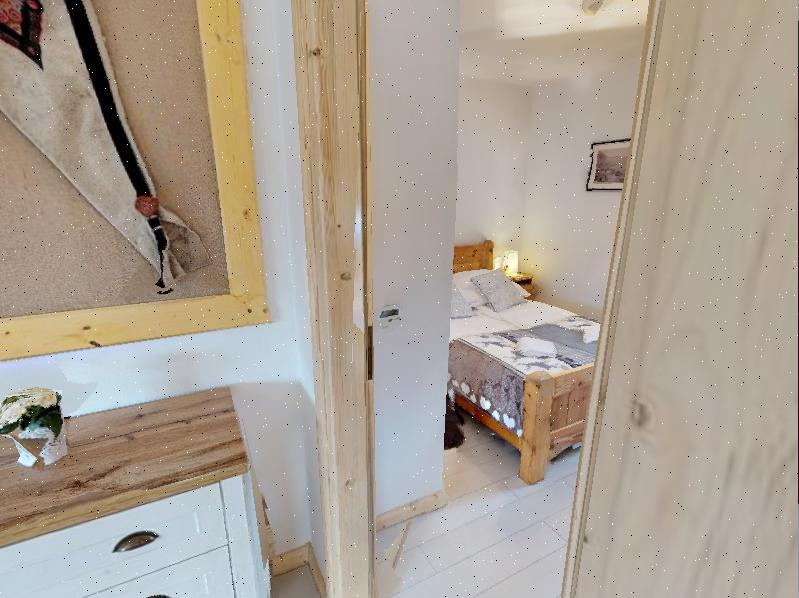bed: (444, 234, 616, 491)
door-frame: (296, 0, 697, 598)
